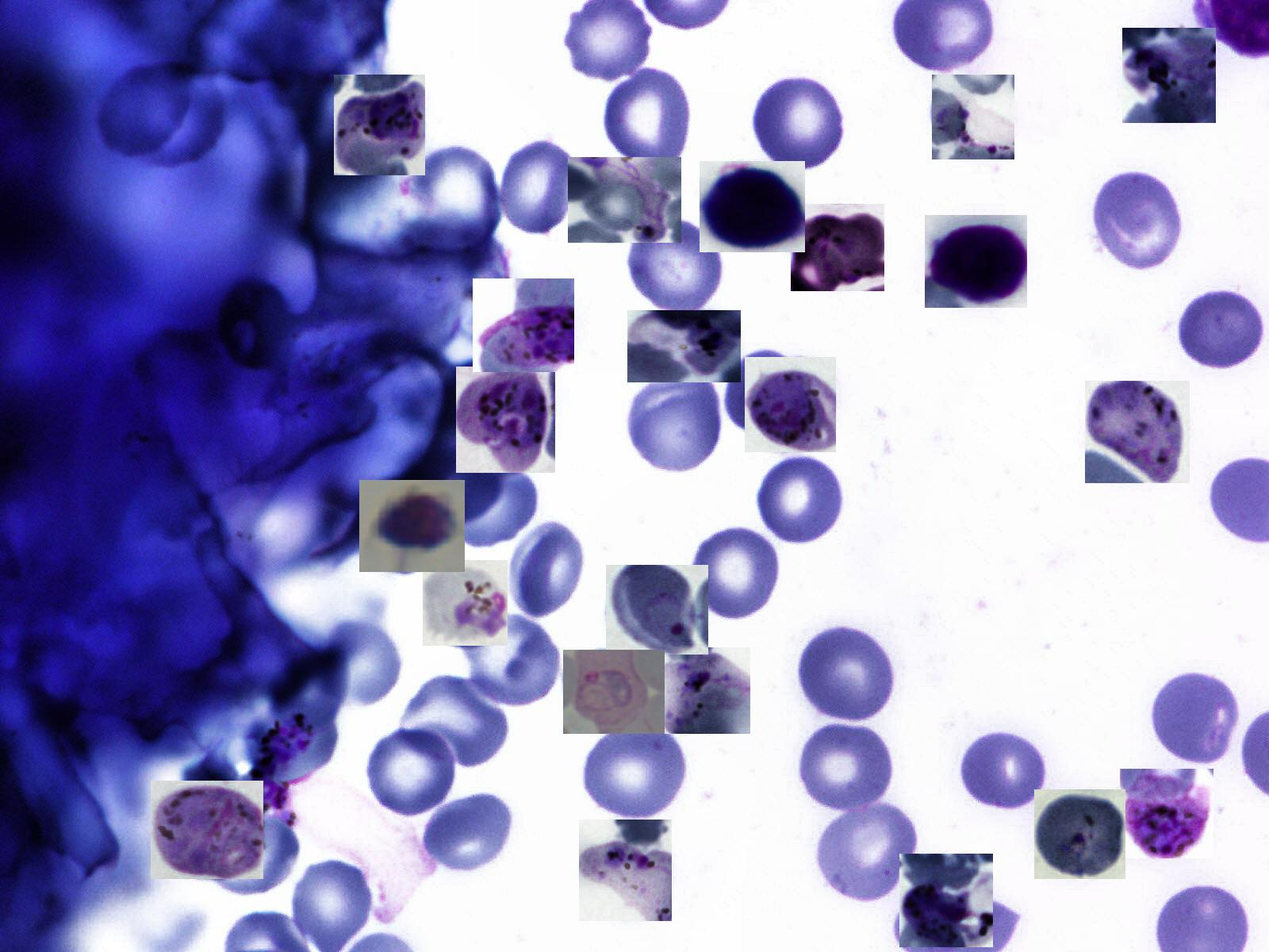Infected: (151, 781, 263, 879), (1085, 381, 1190, 483), (456, 367, 555, 473), (359, 480, 465, 572), (568, 157, 681, 243), (700, 161, 806, 252), (473, 278, 574, 372), (925, 215, 1027, 308), (579, 820, 672, 921), (334, 75, 425, 175), (606, 565, 708, 654), (1122, 28, 1216, 123), (899, 854, 993, 947), (745, 357, 836, 452), (563, 650, 665, 734), (1120, 769, 1213, 858), (627, 310, 741, 382), (1034, 789, 1125, 879), (791, 204, 884, 291), (661, 647, 751, 734), (423, 560, 508, 646), (932, 75, 1014, 159)
Uninfected: (581, 723, 692, 820), (408, 142, 501, 255), (746, 71, 849, 172), (623, 215, 728, 314), (458, 607, 565, 704), (624, 374, 726, 475), (401, 675, 513, 766), (1091, 170, 1183, 278), (817, 804, 918, 902), (600, 68, 695, 171), (794, 627, 895, 721), (799, 720, 896, 812), (753, 451, 846, 546), (1149, 672, 1237, 770), (366, 726, 458, 818), (688, 528, 779, 620), (446, 455, 535, 548), (420, 793, 518, 874), (499, 136, 575, 240), (1175, 285, 1265, 372), (726, 347, 811, 437), (508, 520, 582, 620), (957, 731, 1048, 811)
